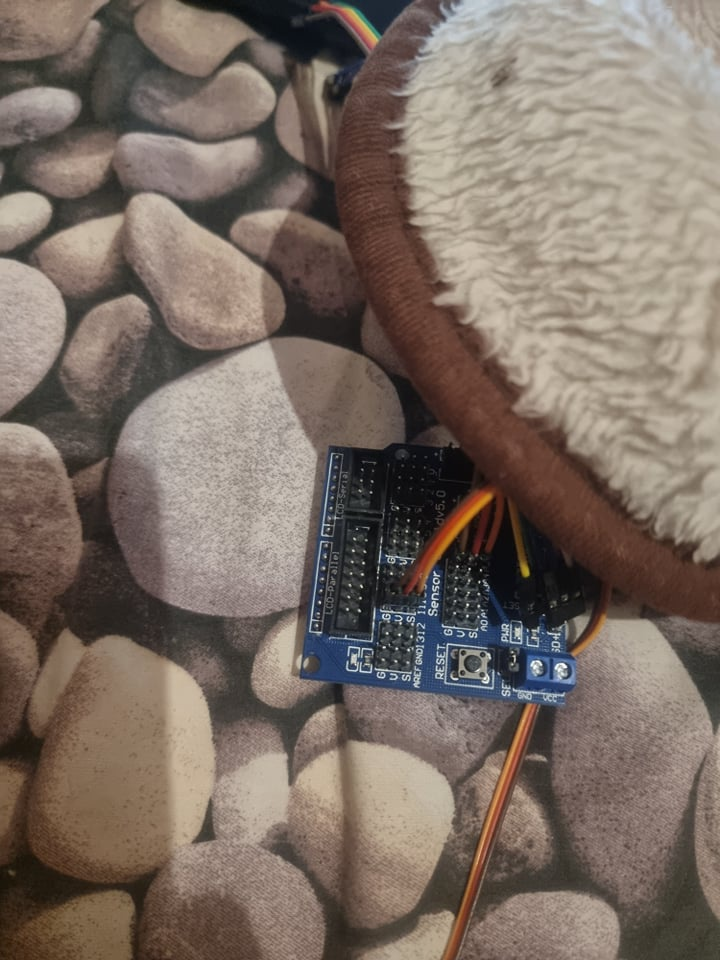5V EXPANSION: (293, 447, 578, 707)
